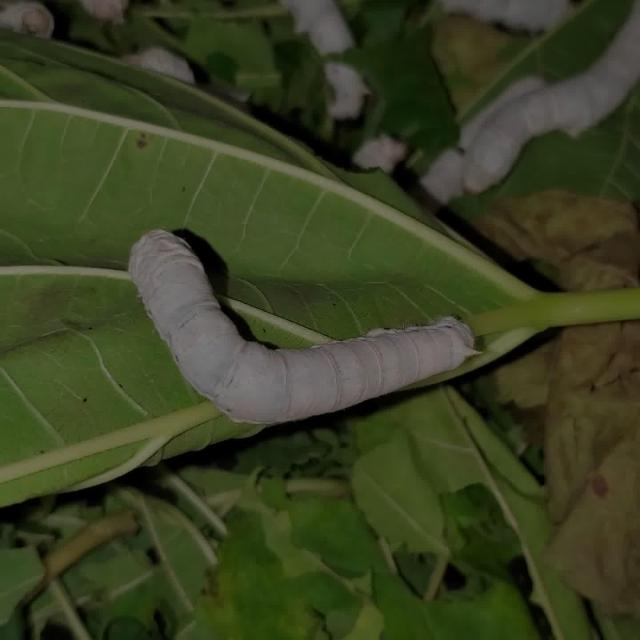Healthy: (123, 222, 486, 430)
